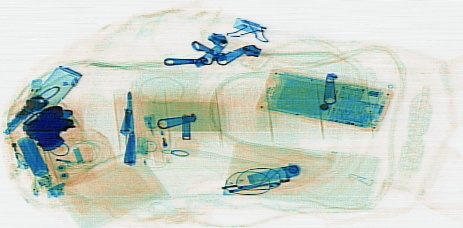lighter: (140, 112, 172, 168), (4, 115, 31, 172)
